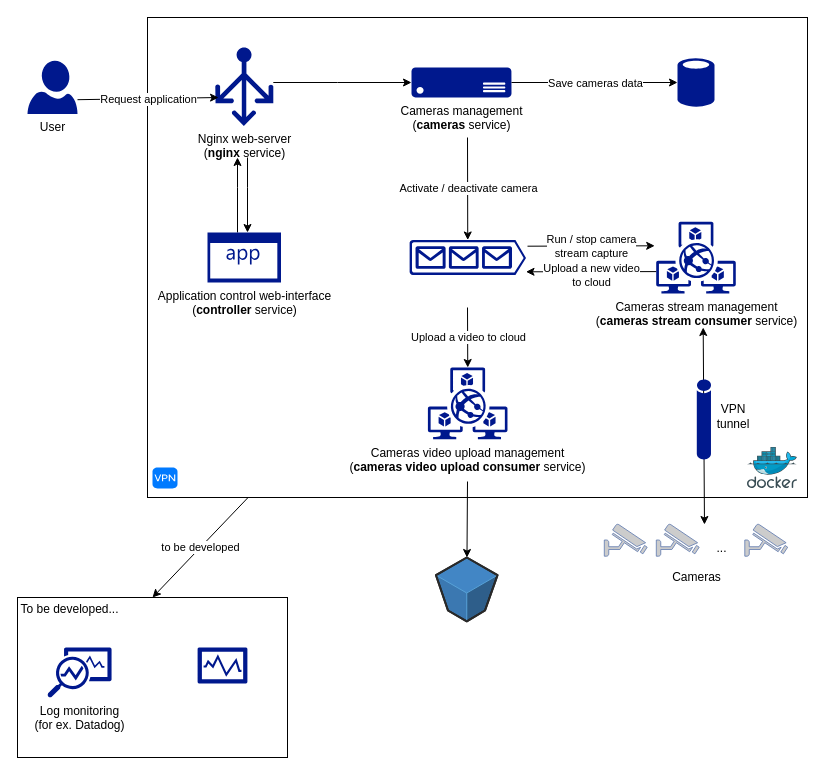
Some shapes in this 825 by 775 pixel diagram are drawn without their labels. The shapes that lost their labels are listed below. From the top down, each one's centre as x and y in pixels, then its label:
At point 695,82: "Cameras DB ( camera_db service)".
At point 467,257: "Queues ( rabbitmq_server service)".
At point 466,588: "S3 bucket on AWS".
At point 222,665: "Application unhandled errors monitorin (for ex. Centry)".
